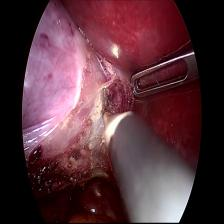Grasper: (128, 46, 202, 106)
Hook: (100, 101, 133, 161)
